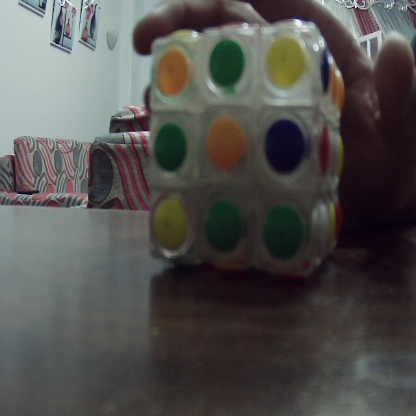Rubix Cube: (149, 32, 340, 273)
